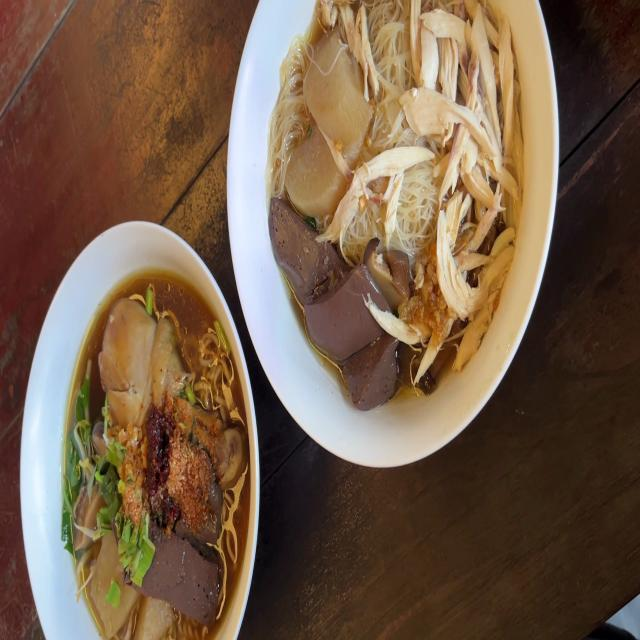noodle: (268, 196, 336, 306), (151, 532, 215, 618), (308, 267, 370, 348), (344, 338, 398, 408), (198, 472, 222, 544)
